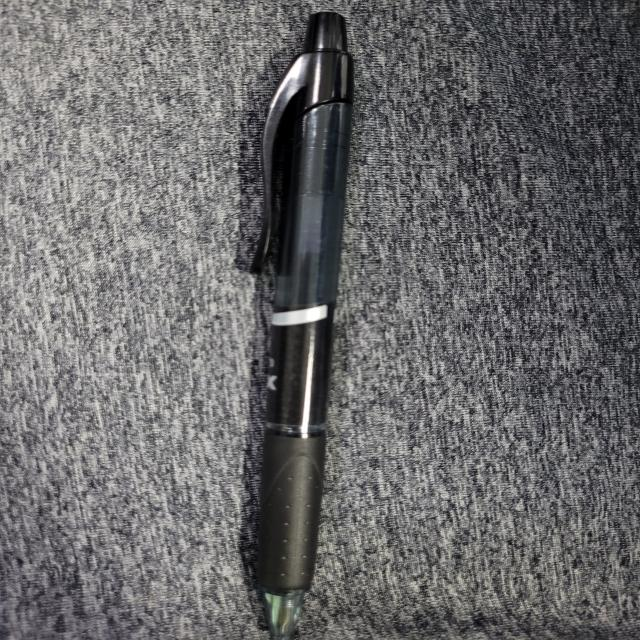caneta: (221, 5, 377, 636)
